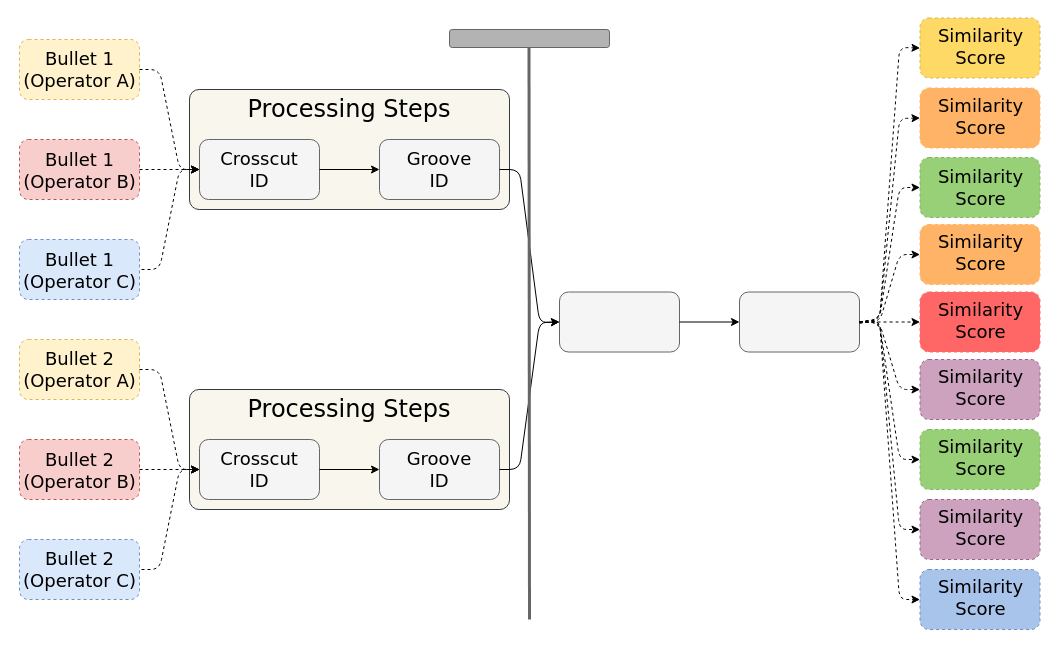
This 1058x647 diagram has some shape labels left out. The shapes that lost their labels are listed below. From the top down, each one's centre as x and y in pixels, then its label:
the point at 529,38: Extracted Signatures
the point at 619,321: Pairwise Features
the point at 799,321: Random Forest
